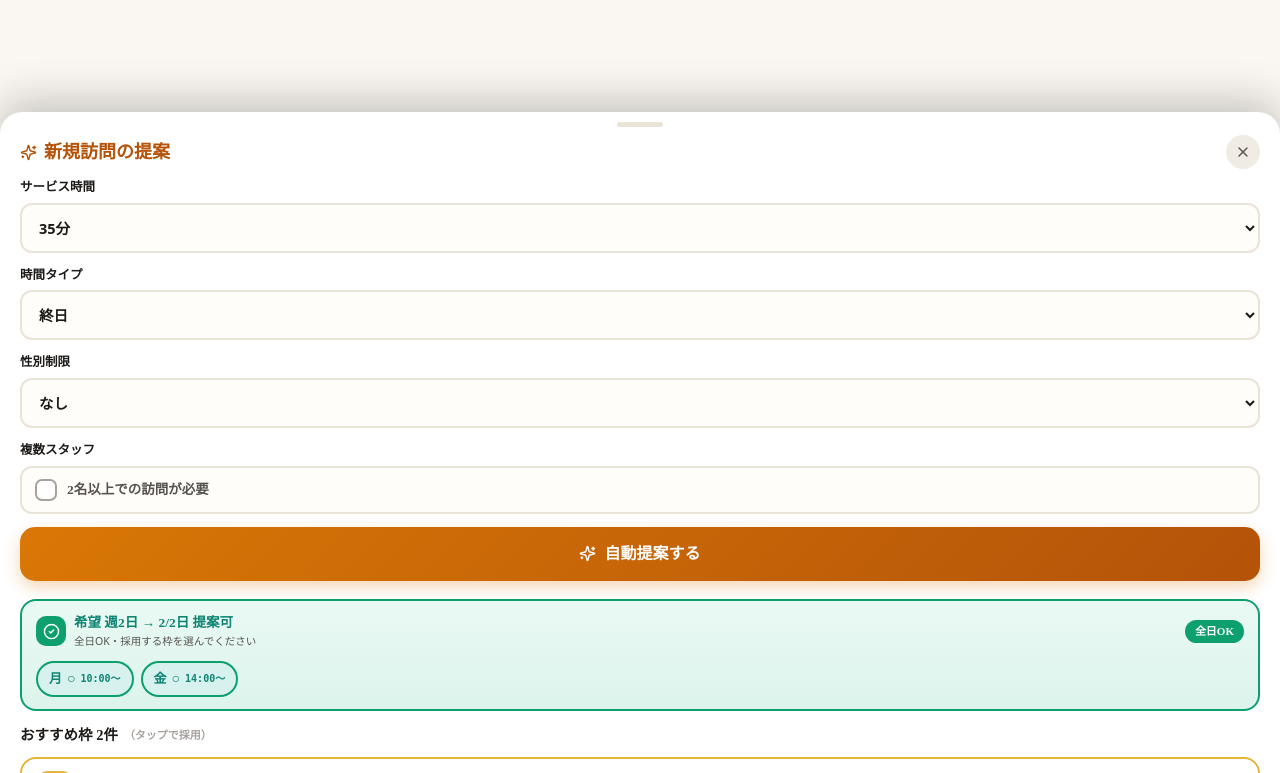
Test: 複数スタッフ注記 (Major#3) › 複数スタッフ ON にすると結果付近に注記を出す
The image size is (1280, 773).
(page scrolled)
Note: 「2名以上での訪問が必要」トグルを ON。
Click the button "2名以上での訪問が必要" at (138, 489), box x1=20 y1=466 x2=1260 y2=514
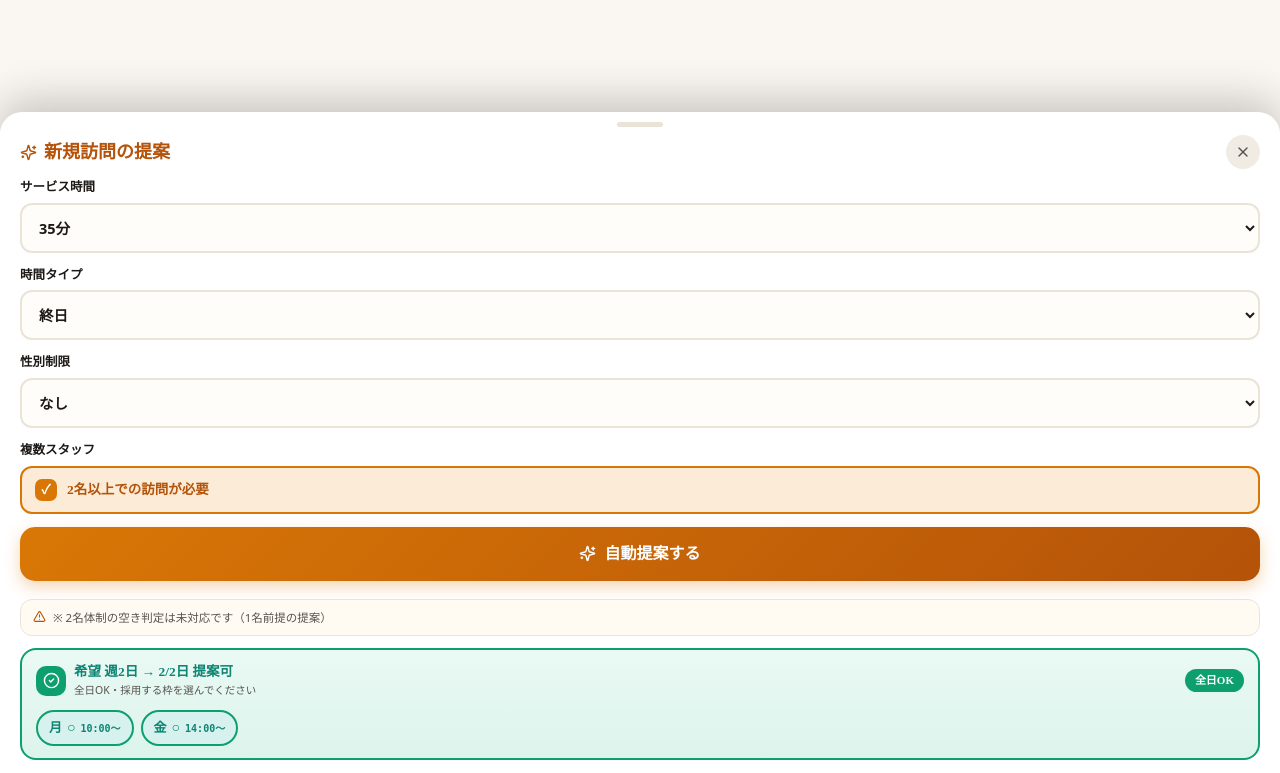
Now the text "※ 2名体制の空き判定は未対応です（1名前提の提案）" is shown, box x1=53 y1=609 x2=332 y2=626
